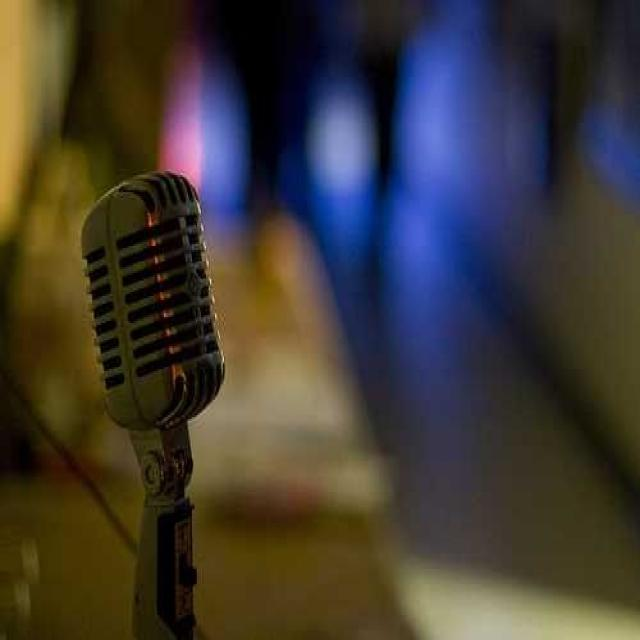microphone: (81, 170, 225, 438)
